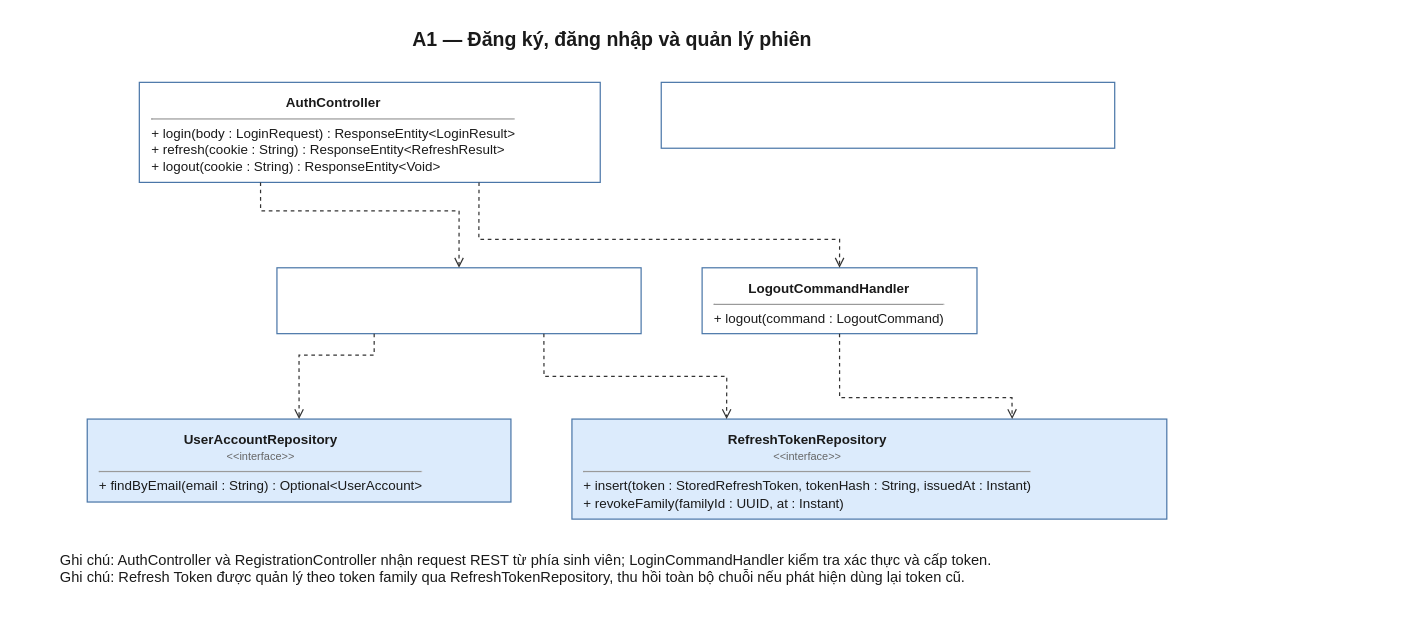
This 1420x617 diagram has some shape labels left out. The shapes that lost their labels are listed below. From the top down, each one's centre as x and y in pixels, then its label:
At (x=887, y=114): "RegistrationController + register(body : RegisterRequest) : ResponseEntity<Void>".
At (x=458, y=300): "LoginCommandHandler + login(command : LoginCommand) : LoginResult".
